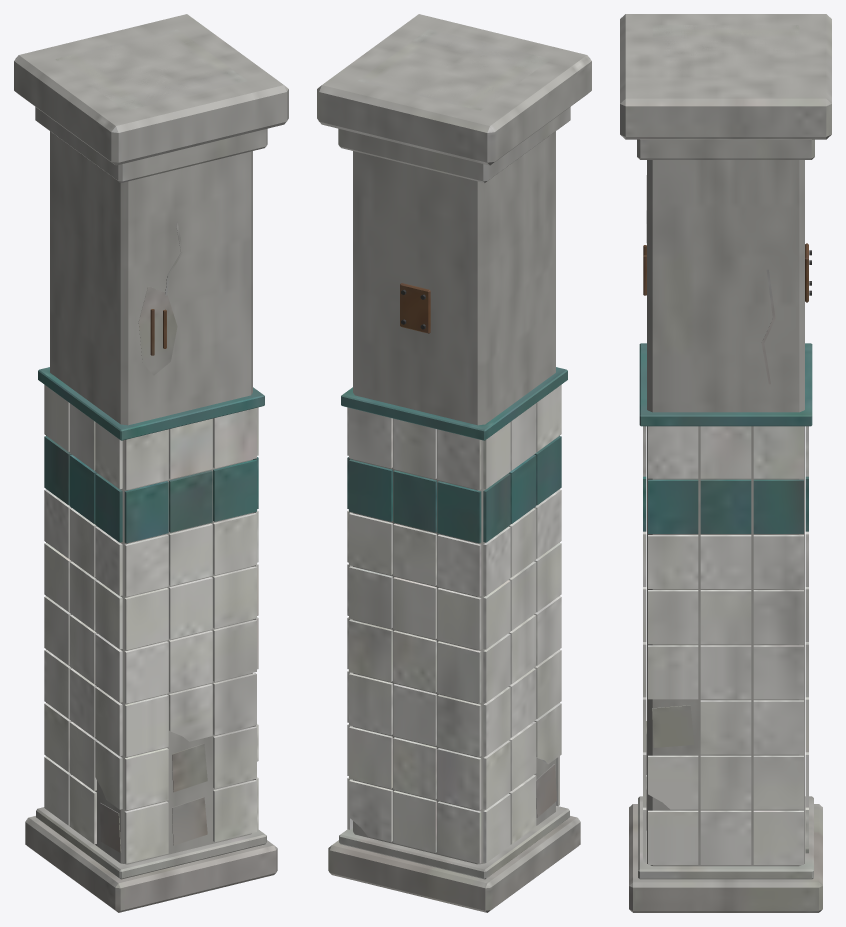
File: RE05_station_pillar.glb
3 views of the same model, side by side, from view 1: azimuth 30°, elevation 25°; view 2: azimuth 150°, elevation 25°; view 3: azimuth 270°, elevation 25° (orthographic). The views are drawn at different scales.
Parts seen in each view (by area): view 1: Concrete structural shaft; view 2: Concrete structural shaft; view 3: Concrete structural shaft.
Boxes of the visible parts, x1,y1,x2,y2 form: Concrete structural shaft: [14, 14, 288, 912]; Concrete structural shaft: [317, 14, 591, 912]; Concrete structural shaft: [620, 14, 831, 912].
Bounding box in the file's own units: 0.94 × 4 × 0.94.
Materials: 6 (6 with a texture image).
